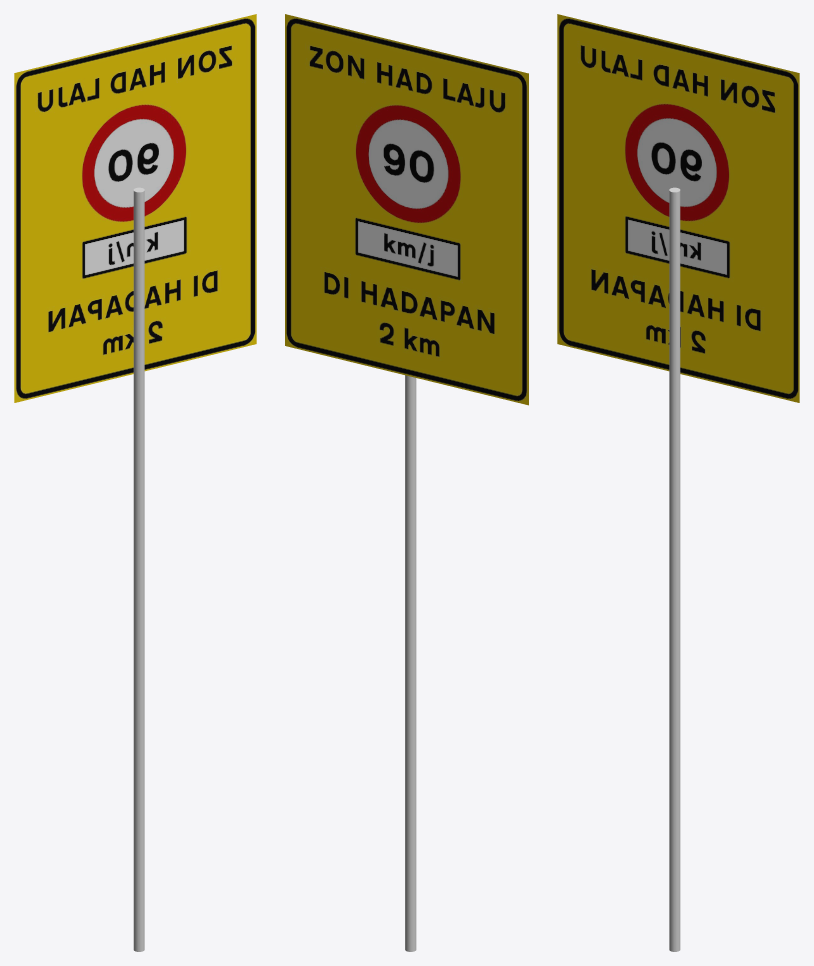
Rendered from halaju.fbx.
3 renders of one model, left to right at view 1: azimuth 30°, elevation 25°; view 2: azimuth 150°, elevation 25°; view 3: azimuth 330°, elevation 25°, orthographic.
Visible parts, largest first — view 1: Plane, Cylinder; view 2: Plane, Cylinder; view 3: Plane, Cylinder.
Part boxes in pixels (bbox=[...]): Plane: bbox=[14, 14, 256, 402]; Cylinder: bbox=[133, 187, 144, 951]; Plane: bbox=[285, 14, 528, 405]; Cylinder: bbox=[405, 375, 416, 951]; Plane: bbox=[557, 14, 799, 402]; Cylinder: bbox=[669, 187, 680, 951].
Bounding box in the file's own units: 200 × 712 × 9.27.
